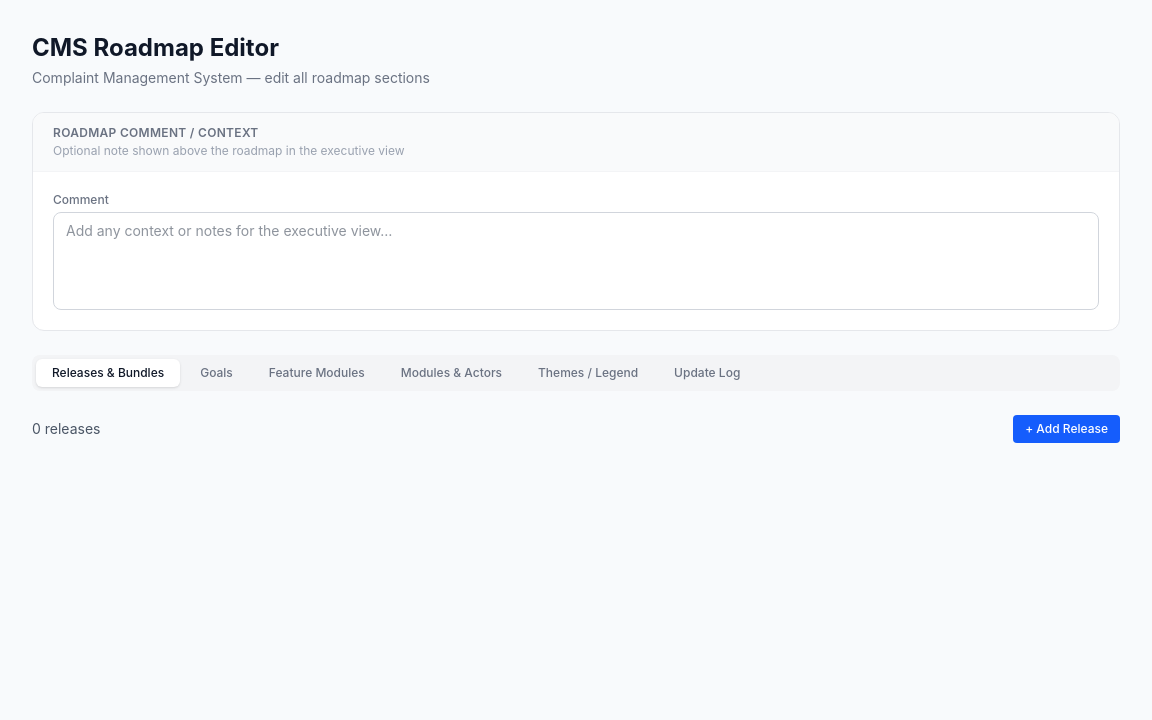
ComplaintsRoadmapEditor (via RoadmapEditor with cms slug) › T-50.17: adding a module in Modules & Actors tab
Click the button "Modules & Actors" at [451, 373], box [385,359,518,387]
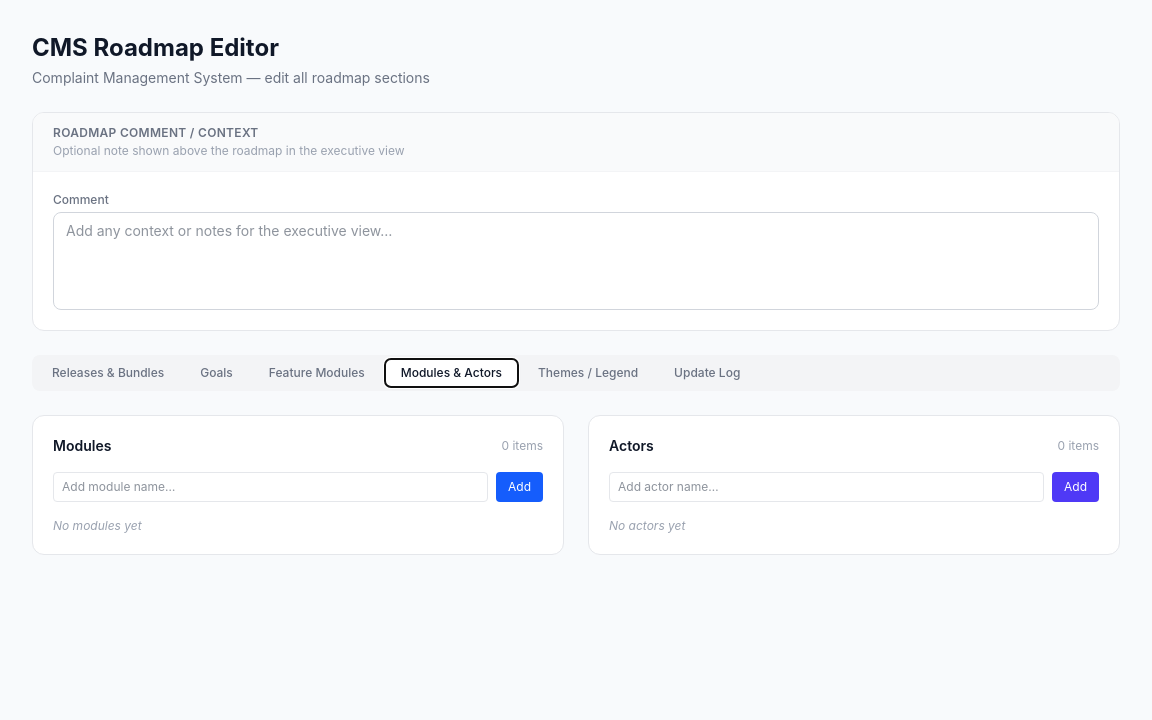
Result: the field with placeholder "Add module name…" is shown
Type "Grievance Registration" into the field with placeholder "Add module name…" at [270, 487], box [53,472,488,502]
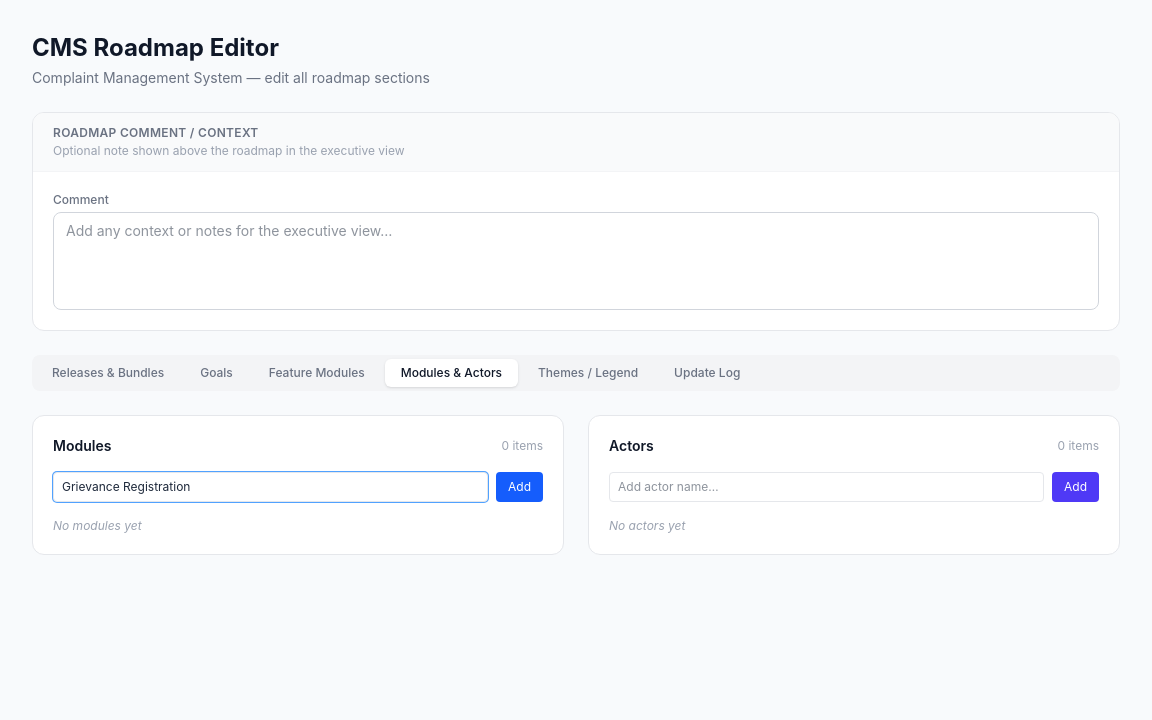
Click the 1st button "Add" at [520, 487], box [496,472,543,502]
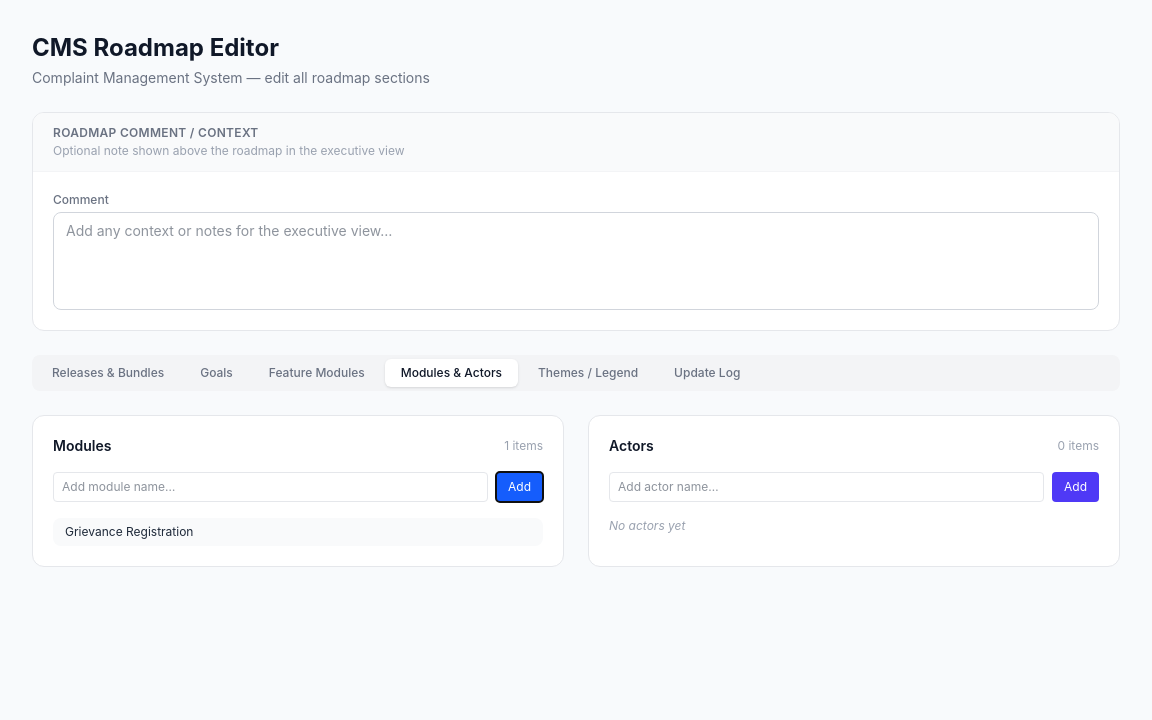
Result: the text "Grievance Registration" is shown at [65,524,193,540]
